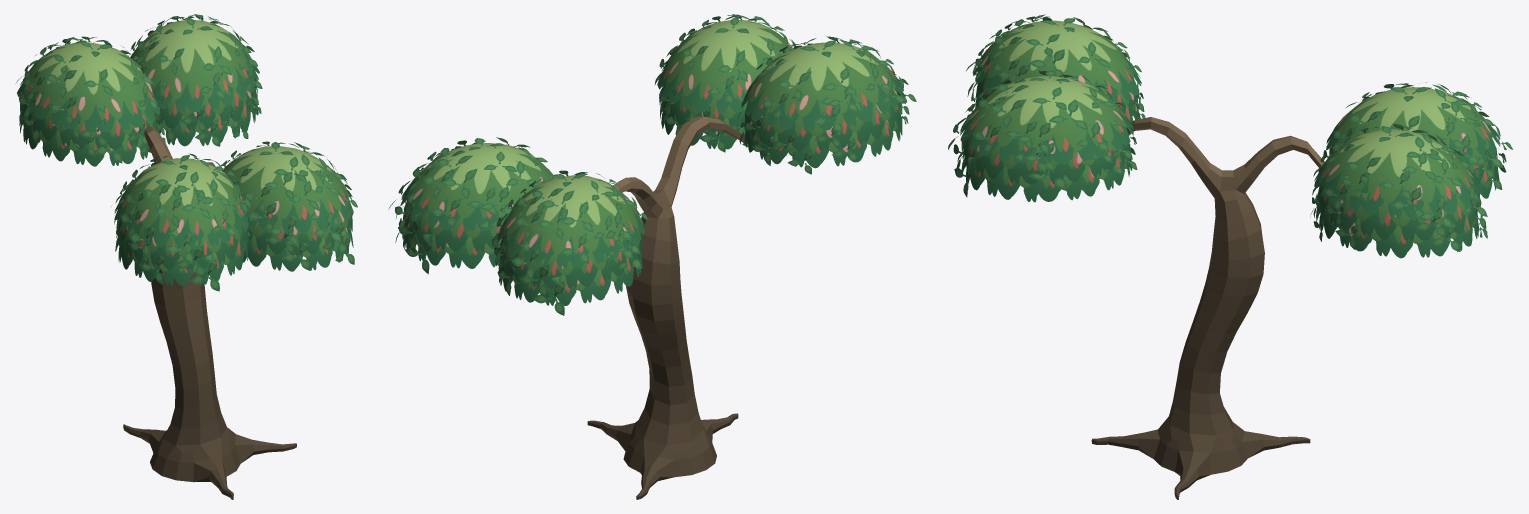
File: SkinnyThreeNormal.fbx
3 renders of one model, left to right at view 1: azimuth 30°, elevation 25°; view 2: azimuth 150°, elevation 25°; view 3: azimuth 270°, elevation 25°, orthographic. The views are drawn at different scales.
Visible parts, largest first — view 1: SkinnyThreeNormal.001; view 2: SkinnyThreeNormal.001; view 3: SkinnyThreeNormal.001.
Part boxes in pixels (left/top/right/bottom): SkinnyThreeNormal.001: left=16, top=14, right=357, bottom=499; SkinnyThreeNormal.001: left=388, top=14, right=916, bottom=499; SkinnyThreeNormal.001: left=948, top=14, right=1512, bottom=499.
Size of the model in its own units: 11.83 by 13.7 by 18.07.
Materials: 2 (2 with a texture image).
